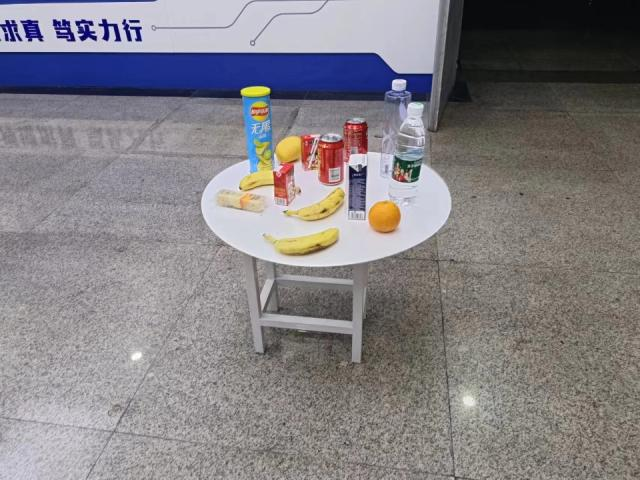Canned_drinks: (316, 133, 346, 185), (343, 118, 369, 164)
bottle: (390, 103, 427, 208), (382, 78, 412, 180)
cylinder: (240, 86, 277, 173)
drink_box: (348, 155, 368, 220), (272, 162, 297, 206), (301, 133, 323, 173)
